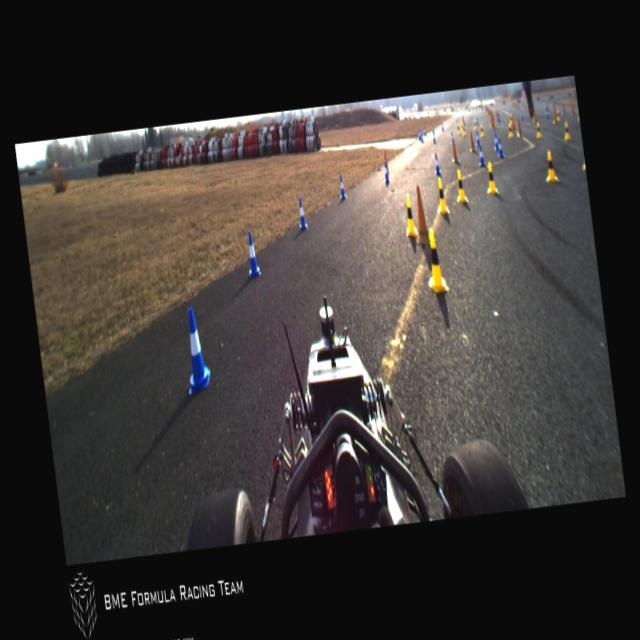blue_cone: (178, 305, 212, 394), (244, 230, 262, 276), (296, 198, 308, 230), (476, 145, 486, 167), (338, 175, 346, 199), (496, 137, 505, 158), (382, 162, 390, 184), (432, 152, 440, 174), (492, 133, 499, 150), (474, 130, 480, 146), (450, 130, 454, 144), (544, 108, 548, 120), (432, 132, 436, 143), (420, 132, 423, 142), (441, 122, 444, 131), (418, 131, 421, 140), (432, 125, 434, 134), (419, 129, 421, 138), (424, 128, 426, 136)
unknown_cone: (410, 184, 430, 246), (450, 138, 460, 162), (468, 129, 476, 152), (515, 117, 523, 137), (383, 150, 389, 174), (550, 104, 557, 124)
yellow_cone: (422, 227, 449, 296), (401, 194, 418, 238), (432, 176, 450, 215), (483, 161, 499, 194), (542, 150, 558, 182), (453, 168, 468, 202), (562, 120, 571, 140), (534, 120, 542, 138), (507, 123, 513, 137), (479, 124, 484, 136), (555, 108, 560, 120), (472, 120, 477, 130), (462, 124, 466, 135), (456, 123, 460, 134)
